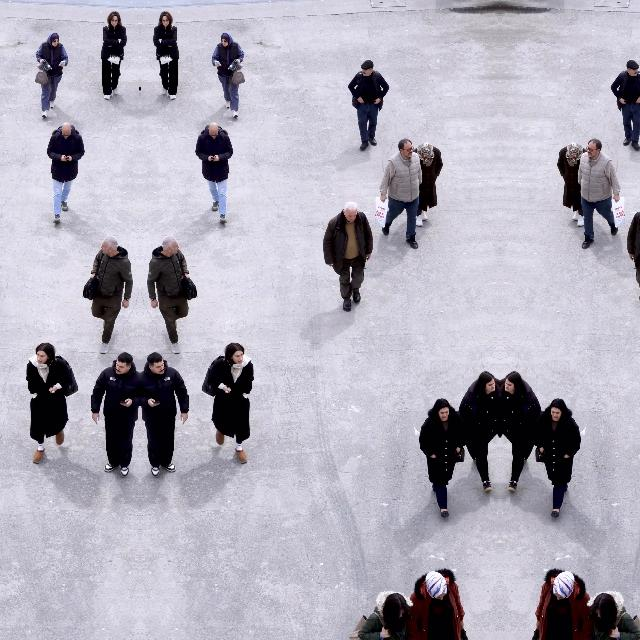person: (202, 342, 254, 464), (26, 342, 78, 464), (140, 352, 190, 478), (90, 352, 140, 478), (418, 398, 466, 518), (534, 398, 582, 518), (322, 200, 373, 312), (146, 236, 190, 354), (90, 236, 134, 354), (458, 371, 500, 493), (500, 371, 542, 493), (378, 138, 422, 250), (578, 138, 622, 250), (408, 568, 467, 640), (534, 568, 592, 640), (194, 122, 233, 224), (46, 122, 85, 224), (348, 60, 390, 152), (609, 60, 640, 151), (212, 32, 244, 118), (36, 32, 68, 118), (358, 592, 412, 640), (587, 592, 640, 640), (413, 142, 443, 226), (557, 142, 587, 226), (153, 11, 179, 100), (101, 11, 127, 100), (626, 200, 640, 311)
